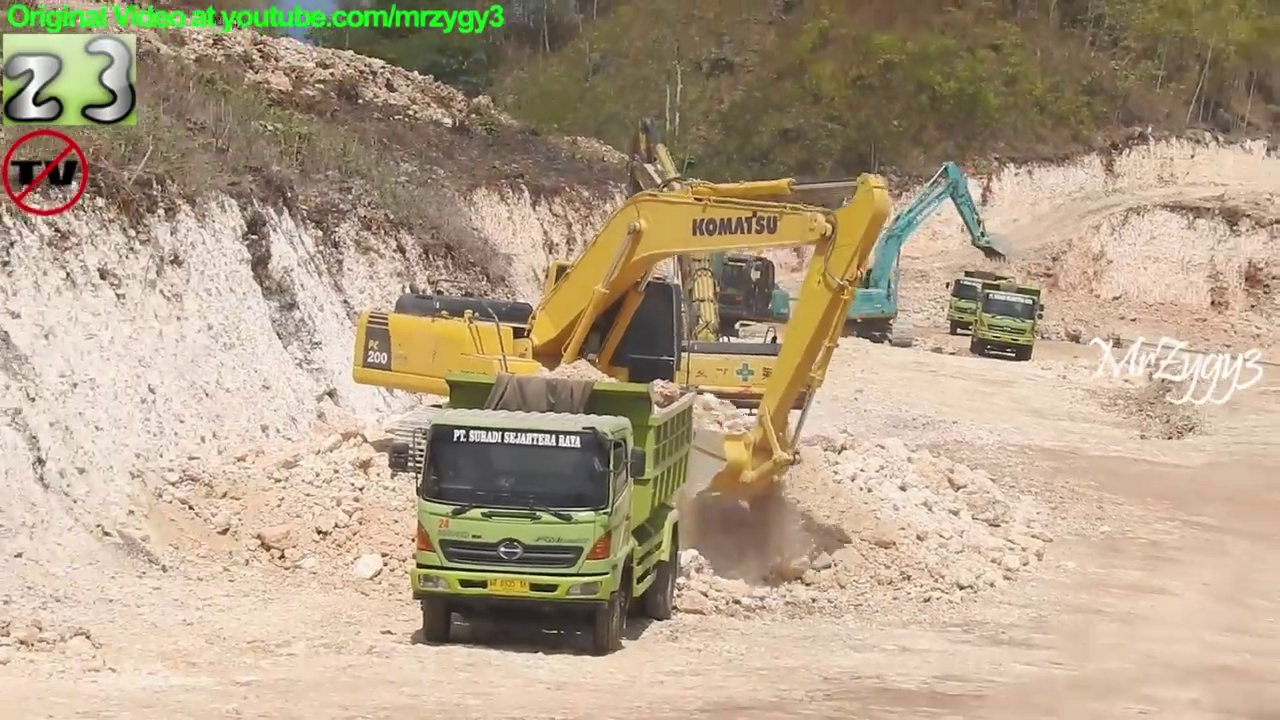excavator: (351, 167, 879, 519), (579, 117, 823, 461), (807, 154, 1010, 354), (629, 171, 793, 357)
truck: (392, 368, 696, 662), (968, 276, 1050, 361), (947, 265, 1020, 341)
